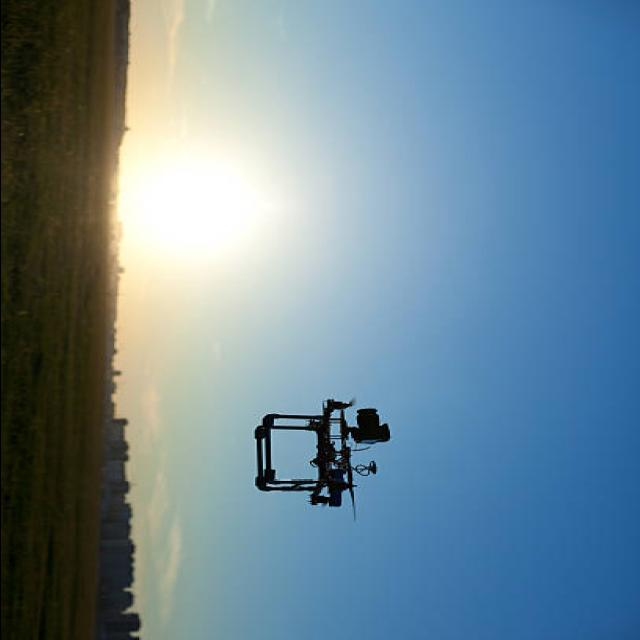drone: (252, 397, 392, 521)
